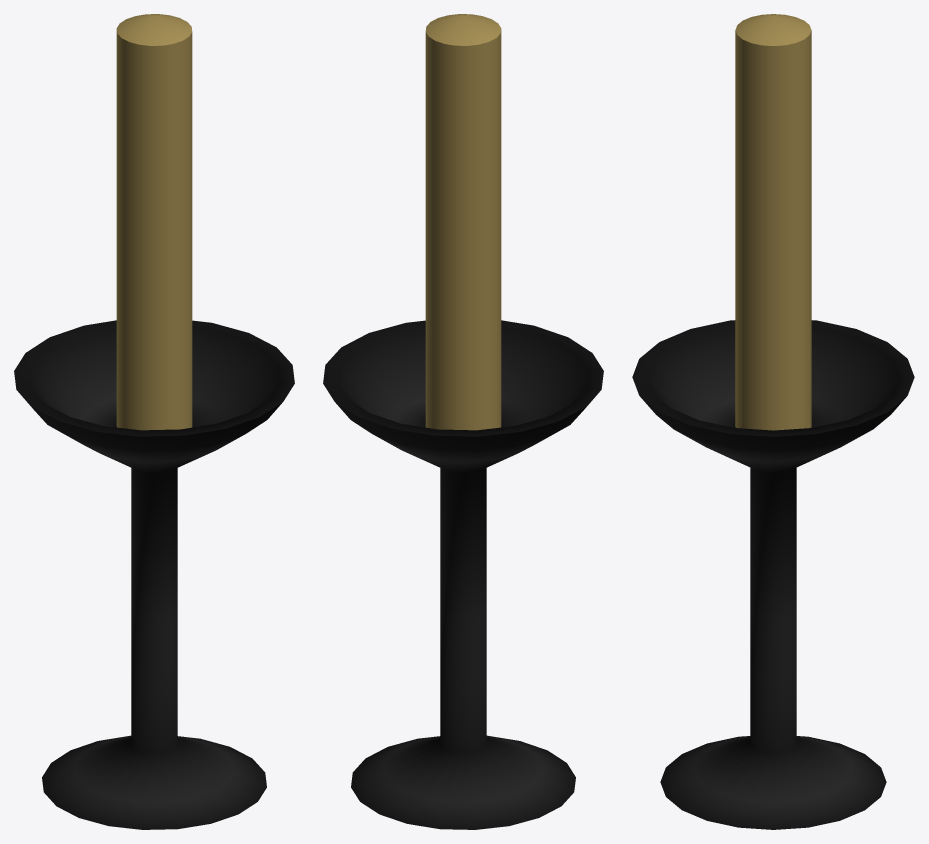
The model's file is Candle.fbx.
The picture shows the model from 3 angles, left to right: view 1: azimuth 30°, elevation 25°; view 2: azimuth 150°, elevation 25°; view 3: azimuth 270°, elevation 25°; orthographic projection.
Visible parts, largest first — view 1: pCylinder3; view 2: pCylinder3; view 3: pCylinder3.
Boxes of the visible parts, x1,y1,x2,y2 form: pCylinder3: (14, 14, 294, 829); pCylinder3: (323, 14, 603, 829); pCylinder3: (632, 14, 914, 829).
Size of the model in its own units: 8.81 by 26.39 by 8.81.
